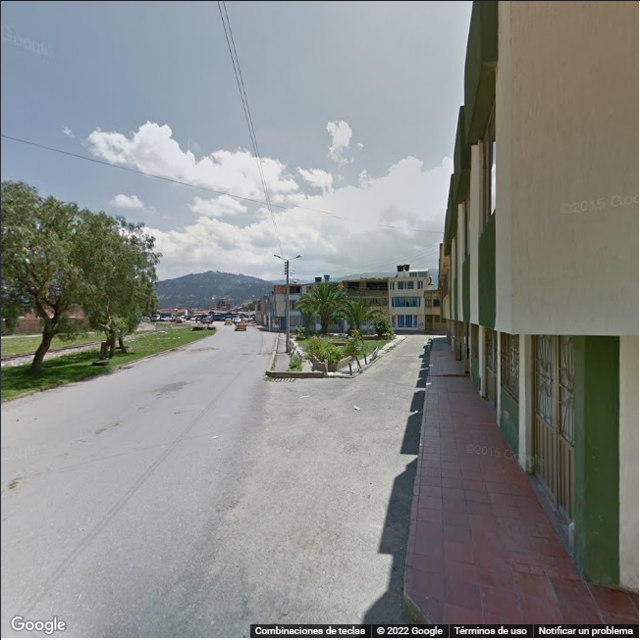D00: (162, 530, 215, 592), (301, 492, 331, 594)
